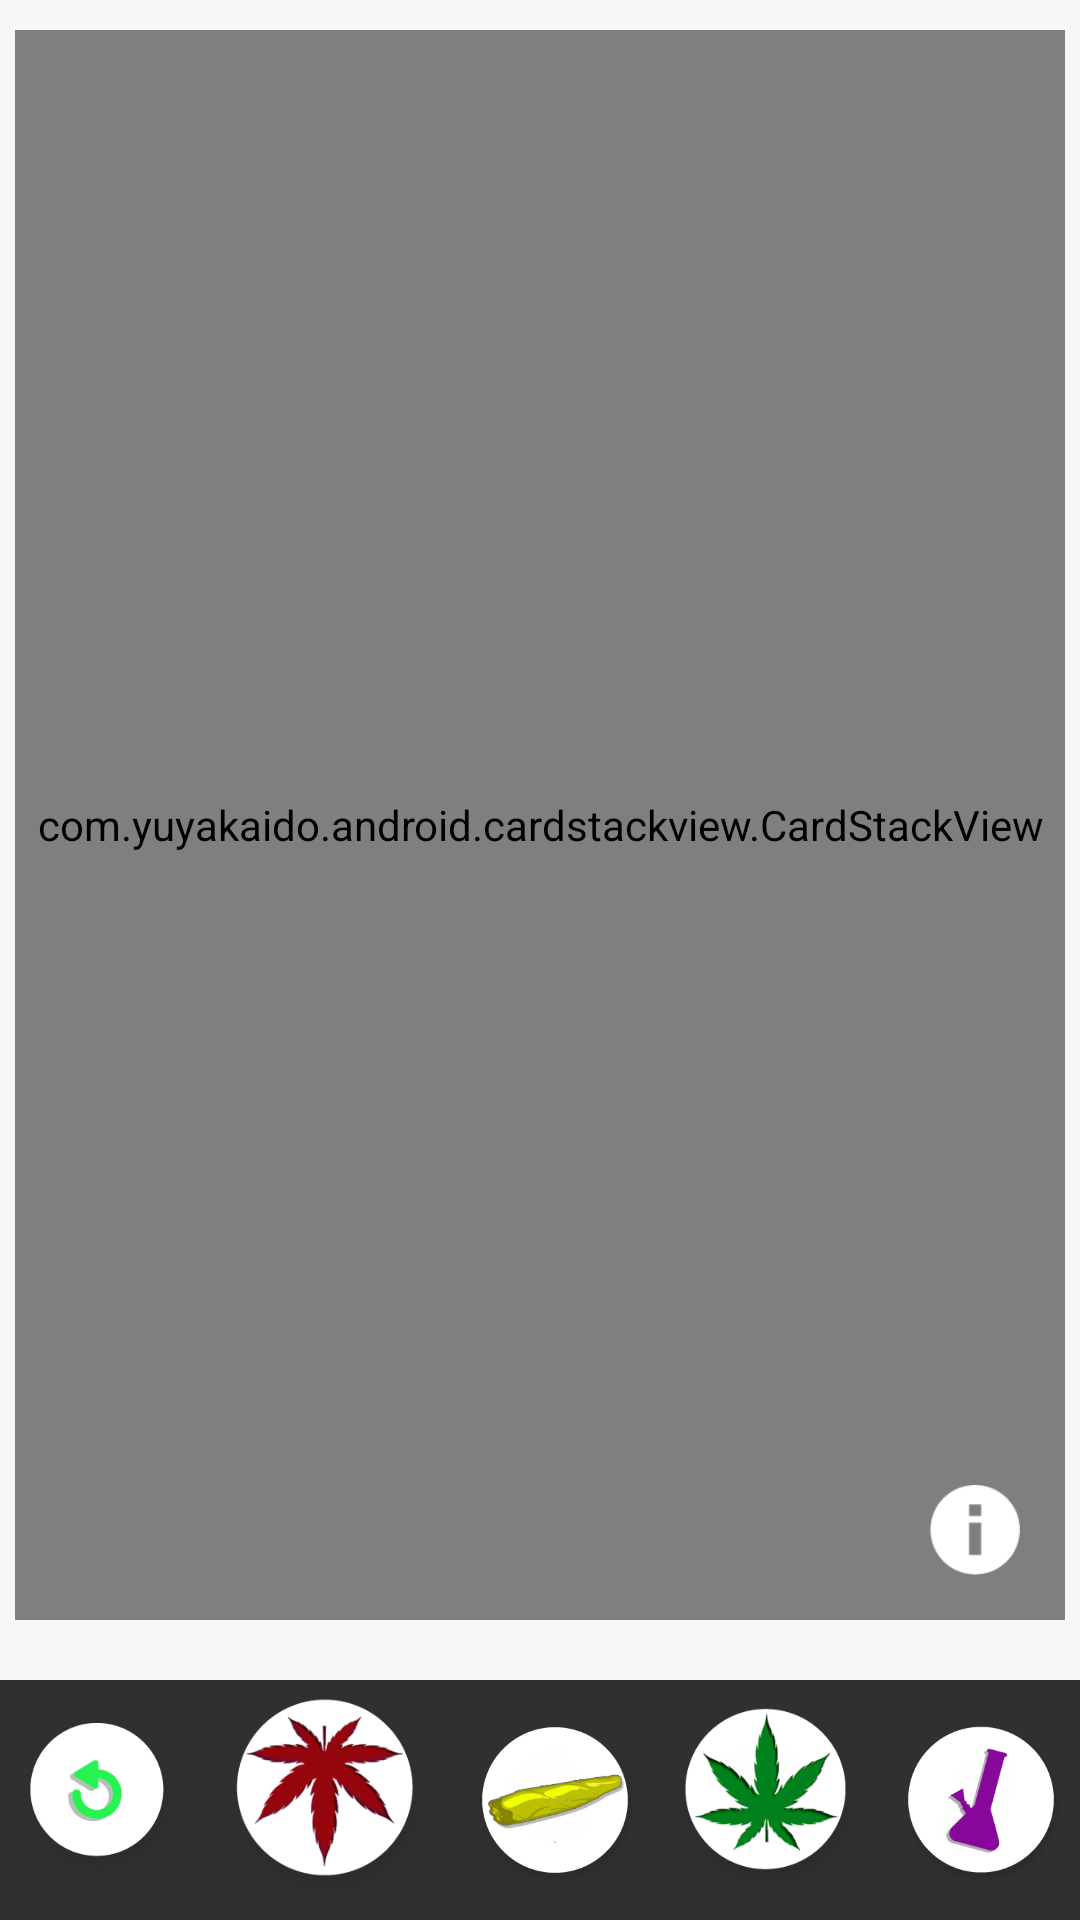

Icons on this 1080px x 1920px Android screen, each with its box as [left=x1, top=y1, right=x2, bottom=y2]:
detail: [left=930, top=1485, right=1020, bottom=1575]
refresh: [left=30, top=1723, right=164, bottom=1856]
